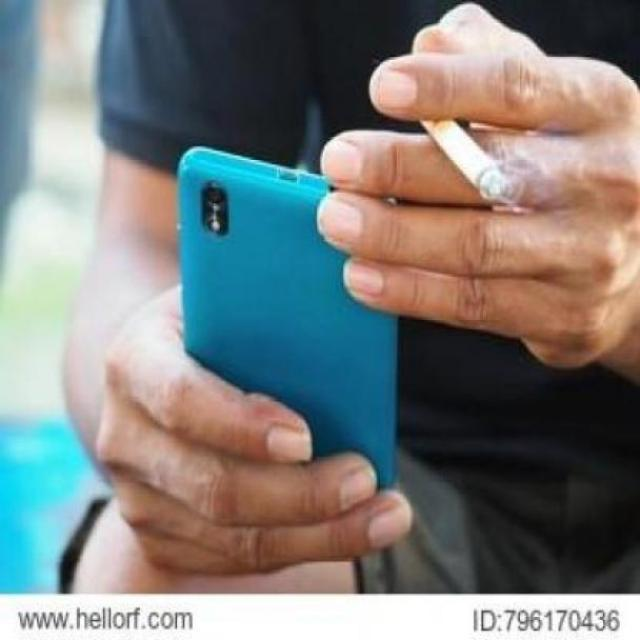rokok: (412, 116, 516, 208)
